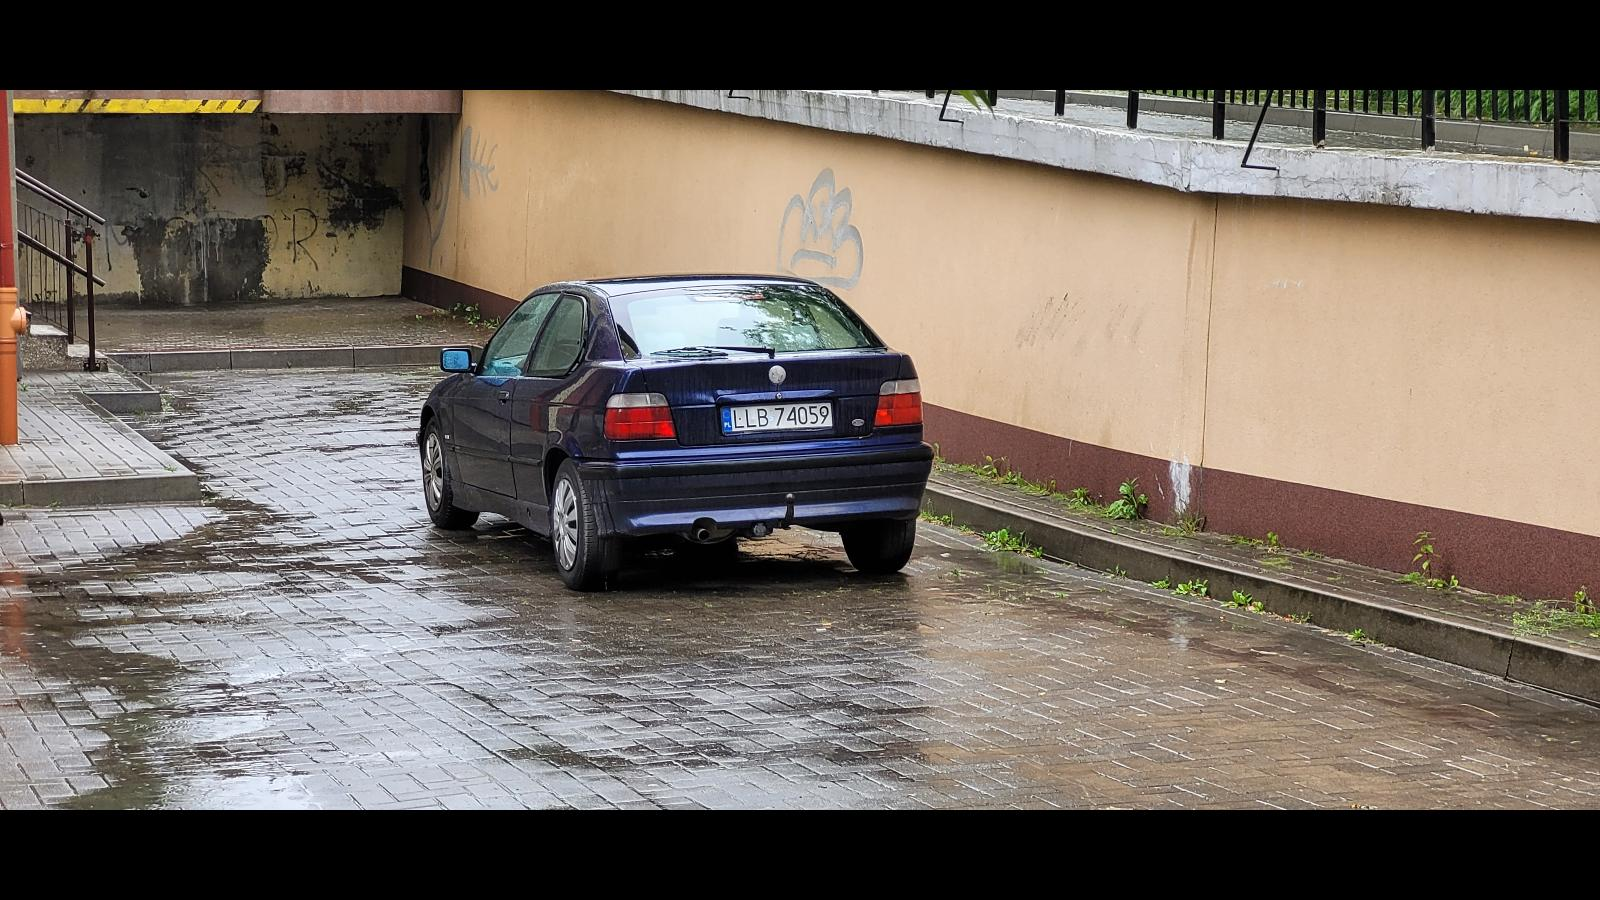plates: (721, 400, 835, 436)
